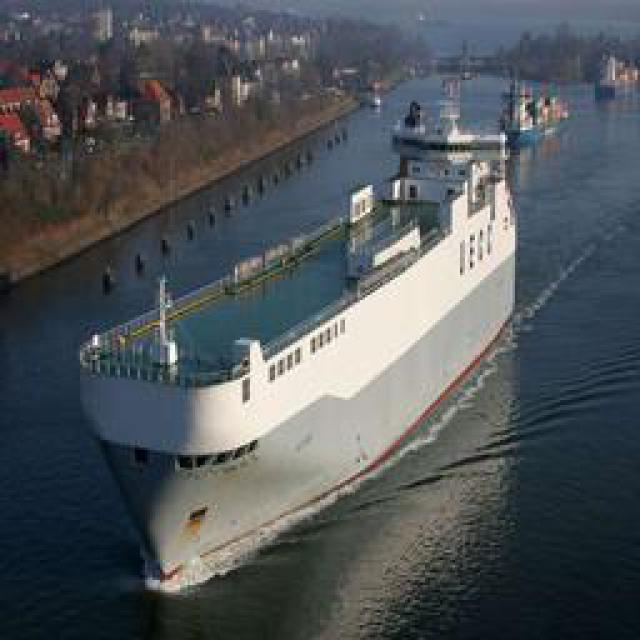Ship: (72, 75, 505, 608)
